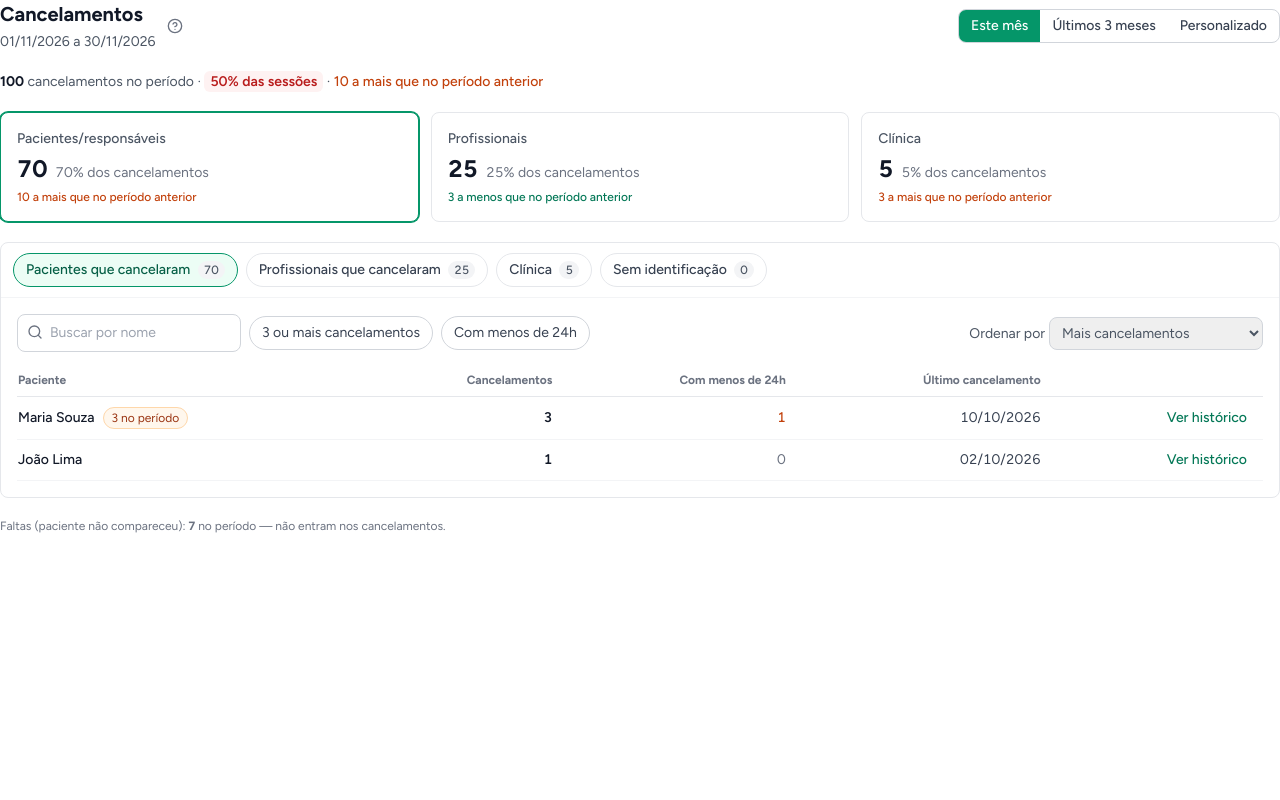
Test case: CancellationsReport › "Ver histórico" abre painel lateral com motivo, antecedência, aproximação e quem registrou
Click the tab "Profissionais que cancelaram 25" at coordinates (367, 270), box [246, 253, 488, 287]
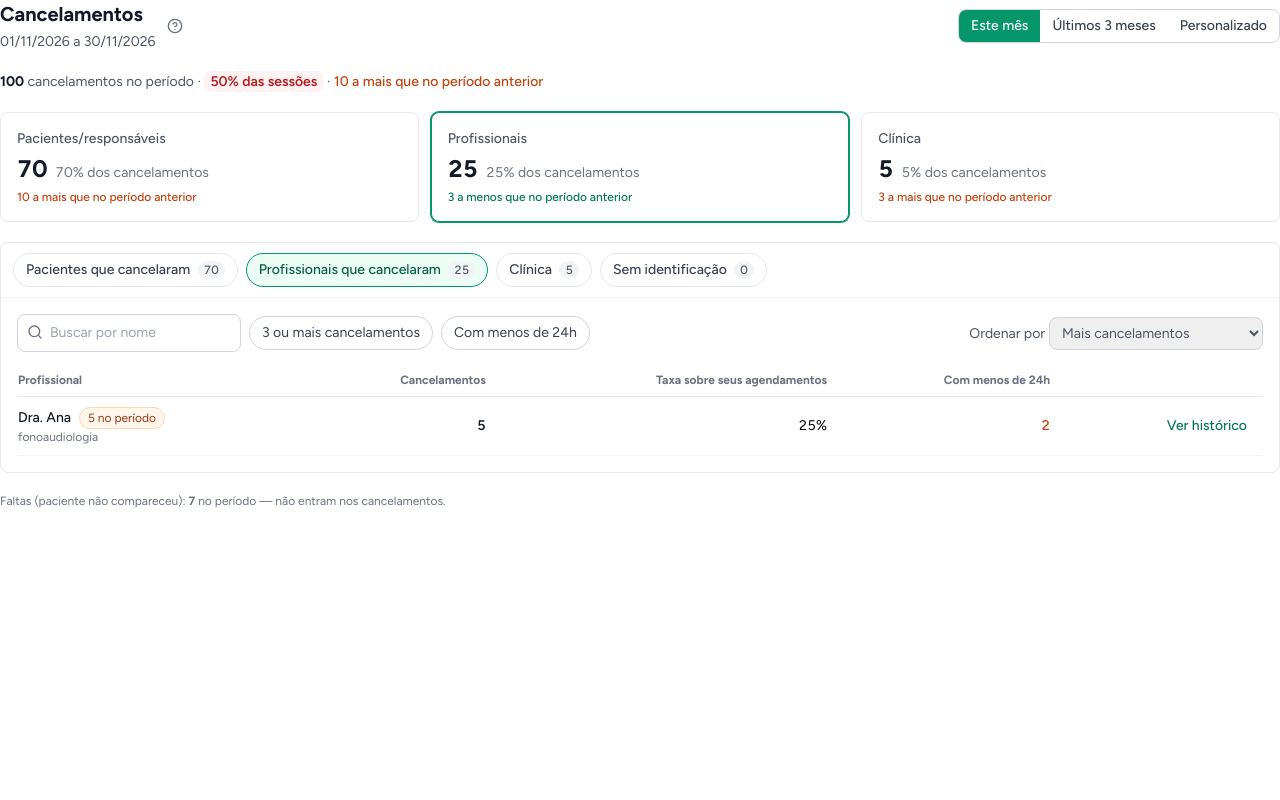
Click the button with aria-label "Ver histórico de Dra. Ana" at coordinates (1207, 426), box [1159, 412, 1255, 440]
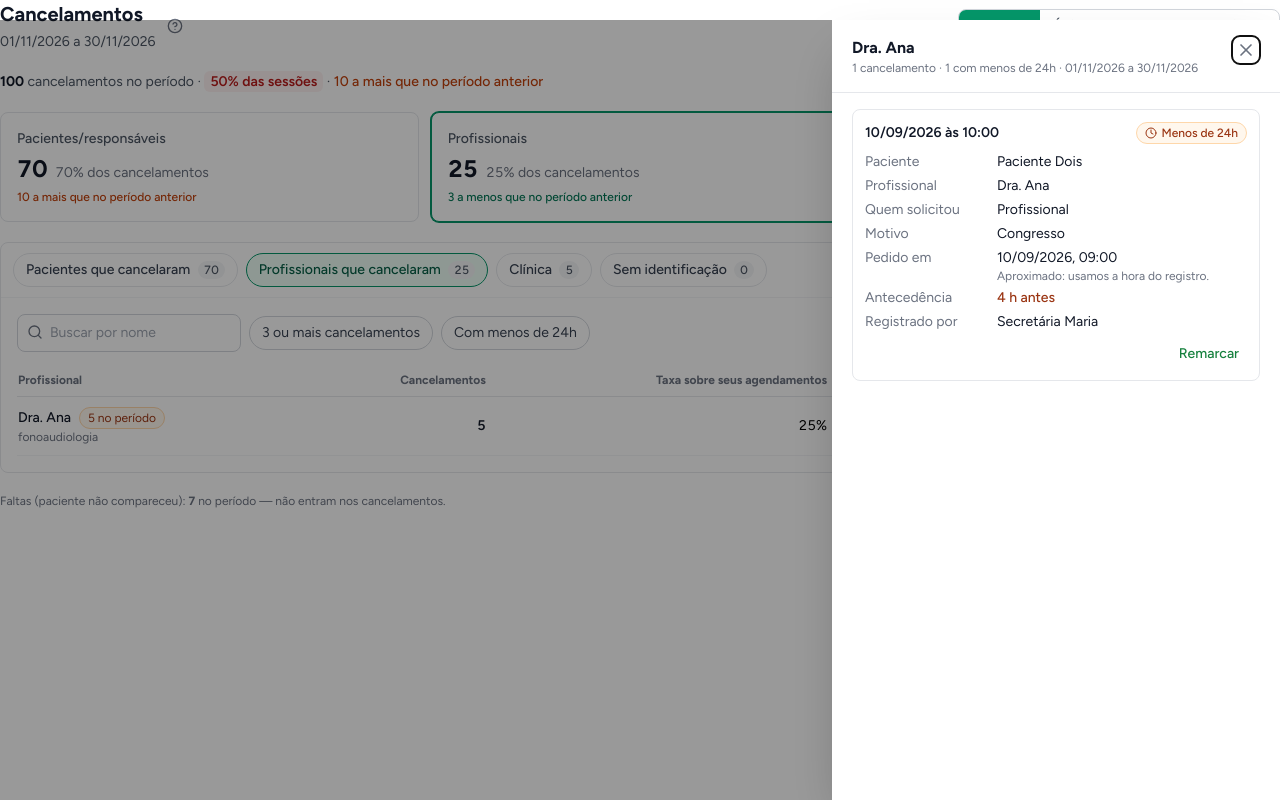
Now the text "Congresso" is shown, box [997, 225, 1065, 242]
Now the dialog shows "4 h antes", box [997, 289, 1055, 306]
Now the dialog shows "menos de 24h", box [1162, 126, 1238, 140]
